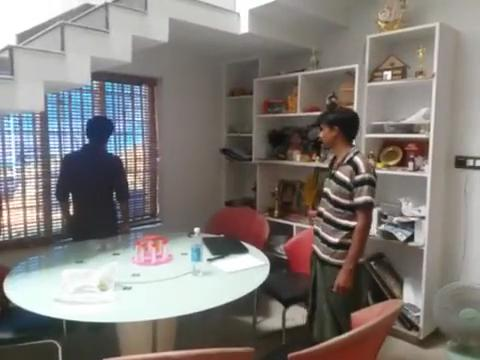chair: (252, 225, 314, 345), (286, 298, 404, 359), (1, 265, 67, 359), (204, 204, 270, 250)
closet_cabinet: (221, 21, 461, 341)
cup_glass_bottle: (130, 232, 173, 266)
floor: (1, 288, 480, 359), (1, 1, 240, 112)
paper_notebook: (202, 236, 267, 273)
person: (305, 107, 377, 346), (55, 115, 129, 241)
picture: (276, 178, 307, 216)
table_desk: (2, 230, 270, 356)
window: (1, 79, 155, 242)
